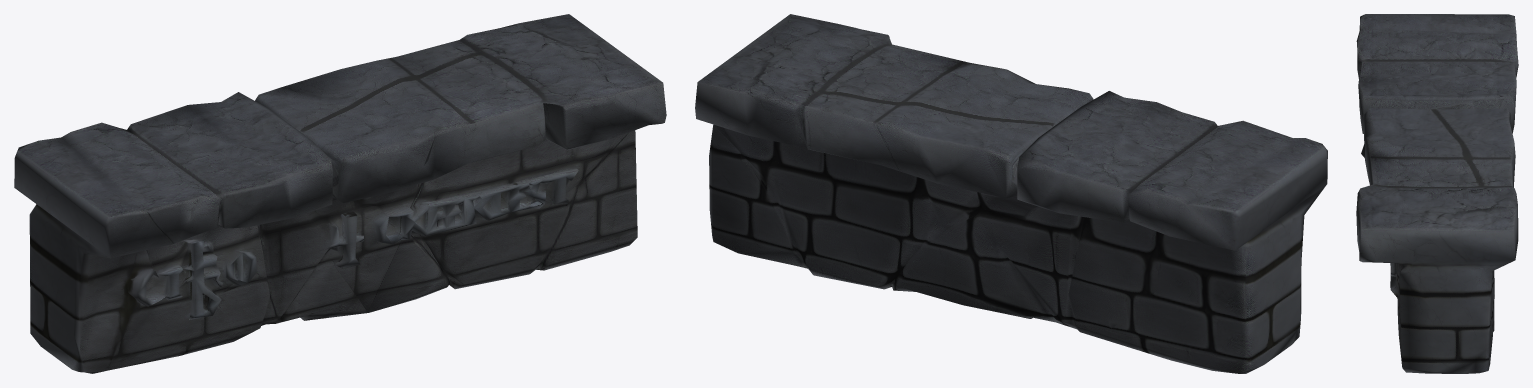
File: prop-gate-lintel.glb
The picture shows the model from 3 angles, left to right: view 1: azimuth 30°, elevation 25°; view 2: azimuth 150°, elevation 25°; view 3: azimuth 270°, elevation 25°; orthographic projection. The views are drawn at different scales.
Bounding box in the file's own units: 2 × 0.6563 × 0.6235.
1 material, 1 textured.
